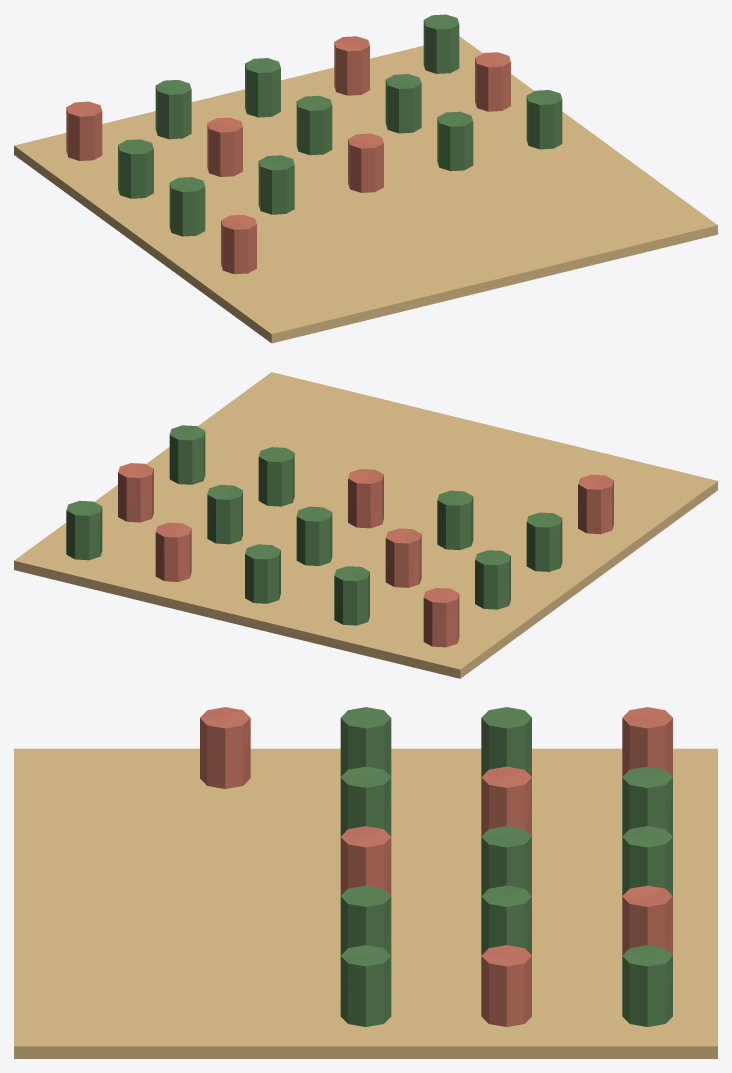
File: Pollinator-garden.glb
The picture shows the model from 3 angles, top to bottom: view 1: azimuth 30°, elevation 25°; view 2: azimuth 150°, elevation 25°; view 3: azimuth 270°, elevation 25°; orthographic projection. The views are drawn at different scales.
Parts seen in each view (by area): view 1: pollinator-garden-static-pollinator-garden-earth, pollinator-garden-static-pollinator-garden-leaf, pollinator-garden-static-pollinator-garden-flower; view 2: pollinator-garden-static-pollinator-garden-earth, pollinator-garden-static-pollinator-garden-leaf, pollinator-garden-static-pollinator-garden-flower; view 3: pollinator-garden-static-pollinator-garden-earth, pollinator-garden-static-pollinator-garden-leaf, pollinator-garden-static-pollinator-garden-flower.
Boxes of the visible parts, box(x1,y1,x2,y2) form: pollinator-garden-static-pollinator-garden-earth: box(14, 36, 717, 343); pollinator-garden-static-pollinator-garden-leaf: box(118, 14, 562, 236); pollinator-garden-static-pollinator-garden-flower: box(66, 36, 510, 274); pollinator-garden-static-pollinator-garden-earth: box(14, 372, 717, 678); pollinator-garden-static-pollinator-garden-leaf: box(66, 425, 562, 625); pollinator-garden-static-pollinator-garden-flower: box(118, 463, 613, 647); pollinator-garden-static-pollinator-garden-earth: box(14, 748, 717, 1058); pollinator-garden-static-pollinator-garden-leaf: box(340, 707, 672, 1026); pollinator-garden-static-pollinator-garden-flower: box(200, 707, 672, 1026).
Size of the model in its own units: 5 by 0.575 by 5.
